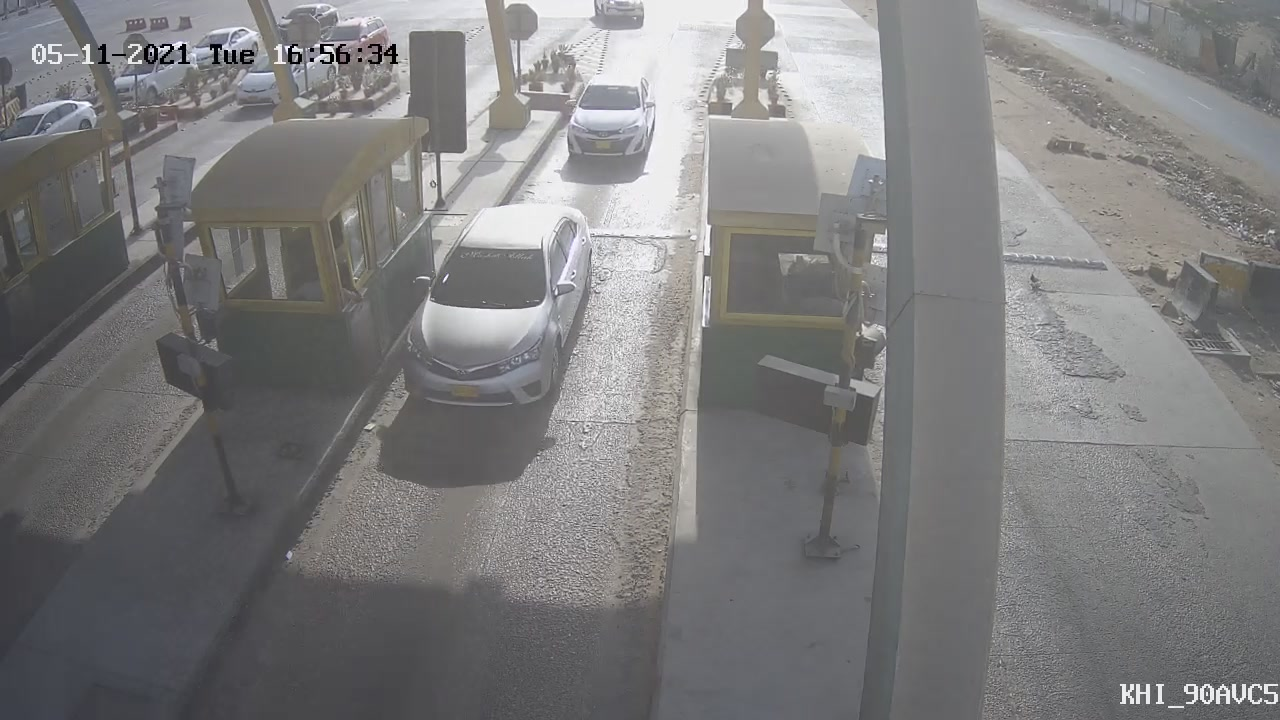F1: (377, 187, 607, 431), (544, 56, 672, 195)
